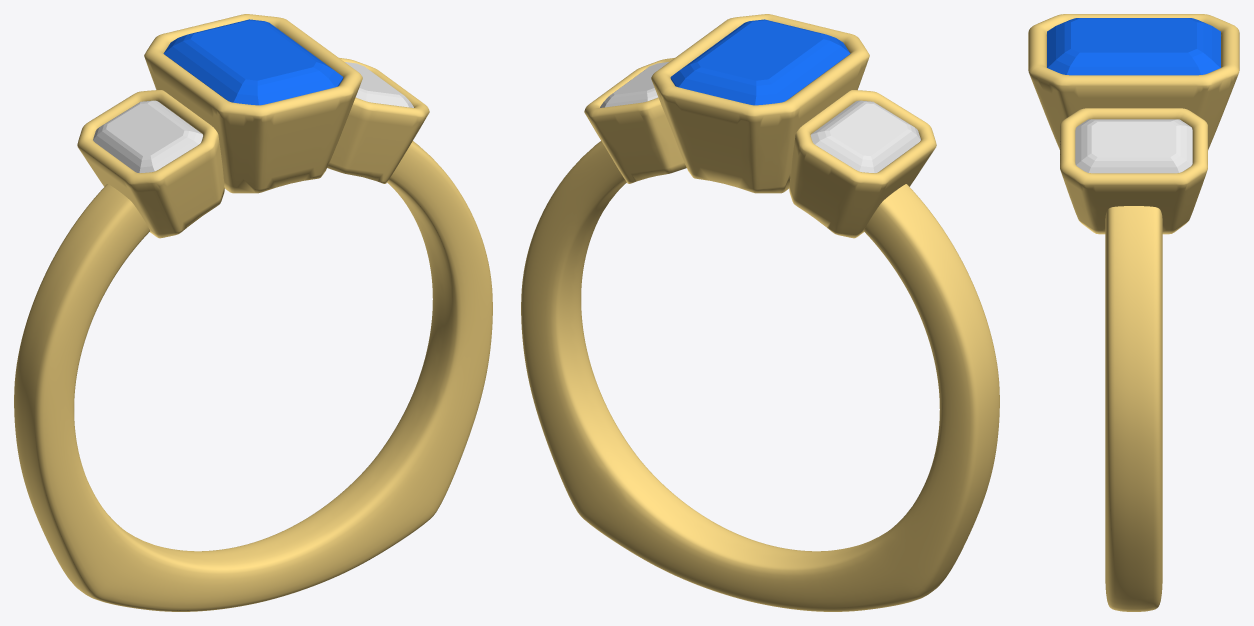
Rendered from bluesapphire-emerald-yellowgold-bezelset-europeanshank-3stone.glb.
The picture shows the model from 3 angles, left to right: view 1: azimuth 30°, elevation 25°; view 2: azimuth 150°, elevation 25°; view 3: azimuth 270°, elevation 25°; orthographic projection.
Parts seen in each view (by area): view 1: metal.001, stone.001, side.001, side.005; view 2: metal.001, stone.001, side.001, side.005; view 3: metal.001, stone.001, side.005.
Boxes of the visible parts, x1,y1,x2,y2 form: metal.001: [14, 14, 492, 611]; stone.001: [163, 19, 343, 105]; side.001: [93, 100, 202, 172]; side.005: [345, 62, 413, 107]; metal.001: [521, 14, 999, 611]; stone.001: [670, 19, 850, 105]; side.001: [810, 100, 920, 172]; side.005: [600, 62, 668, 107]; metal.001: [1028, 14, 1239, 611]; stone.001: [1047, 18, 1220, 75]; side.005: [1075, 119, 1192, 173].
Bounding box in the file's own units: 20.11 × 22.75 × 8.11.
